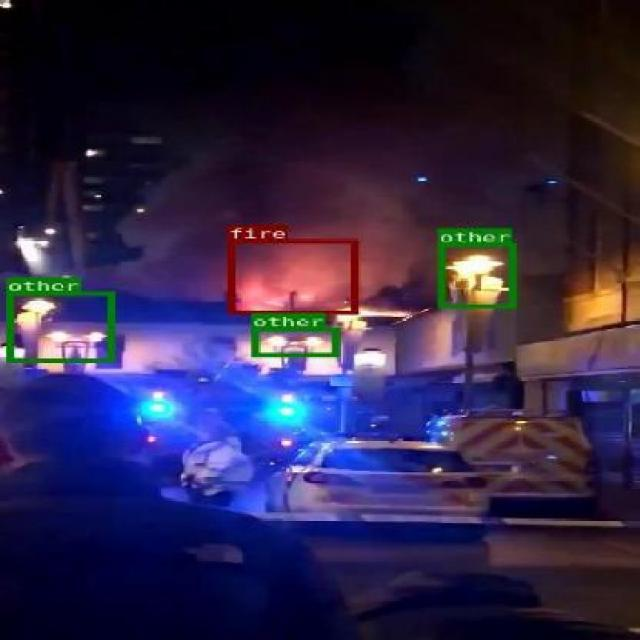Fire: (227, 239, 356, 313)
